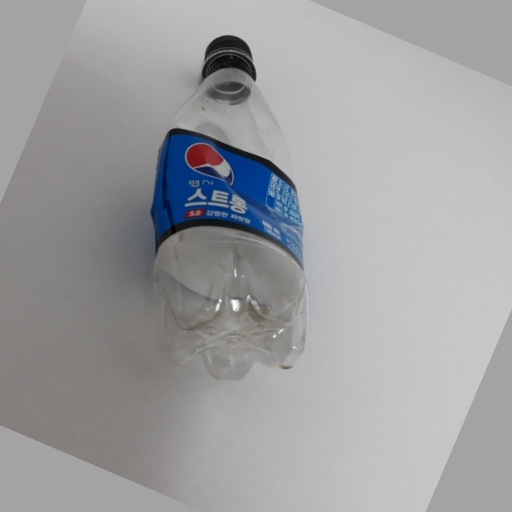Plastic_0: (144, 33, 313, 382)
